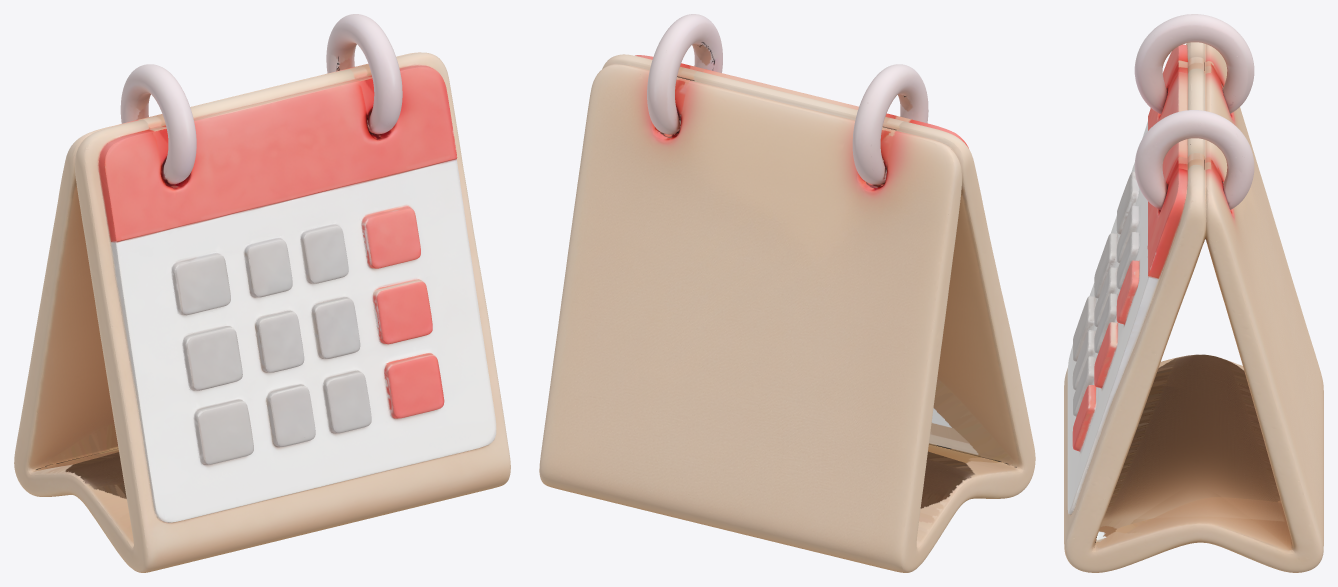
Rendered from calendar_shaded.glb.
3 renders of one model, left to right at view 1: azimuth 30°, elevation 25°; view 2: azimuth 150°, elevation 25°; view 3: azimuth 270°, elevation 25°, orthographic. The views are drawn at different scales.
Parts seen in each view (by area): view 1: model; view 2: model; view 3: model.
Part boxes in pixels (bbox=[...]): model: bbox=[14, 14, 510, 572]; model: bbox=[539, 14, 1035, 572]; model: bbox=[1064, 14, 1323, 572].
Bounding box in the file's own units: 1.63 × 1.9 × 1.05.
Materials: 1 (1 with a texture image).
